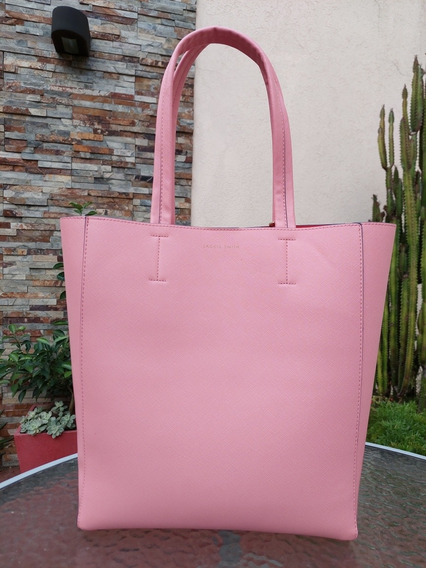cartera: (59, 27, 397, 542)
